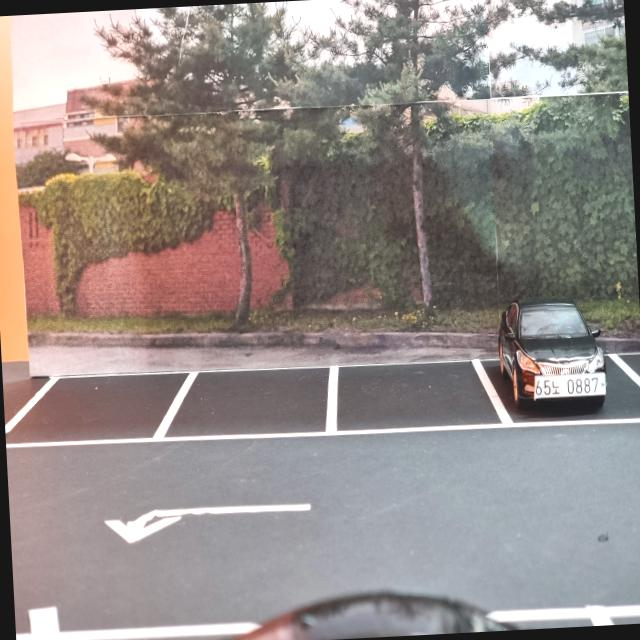car: (494, 288, 614, 422)
free: (6, 368, 198, 456), (318, 356, 507, 438), (186, 358, 338, 443)
